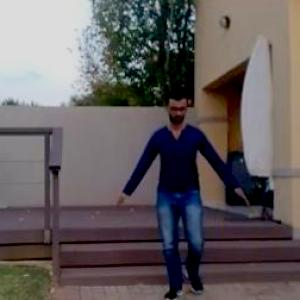land: (117, 71, 264, 299)
